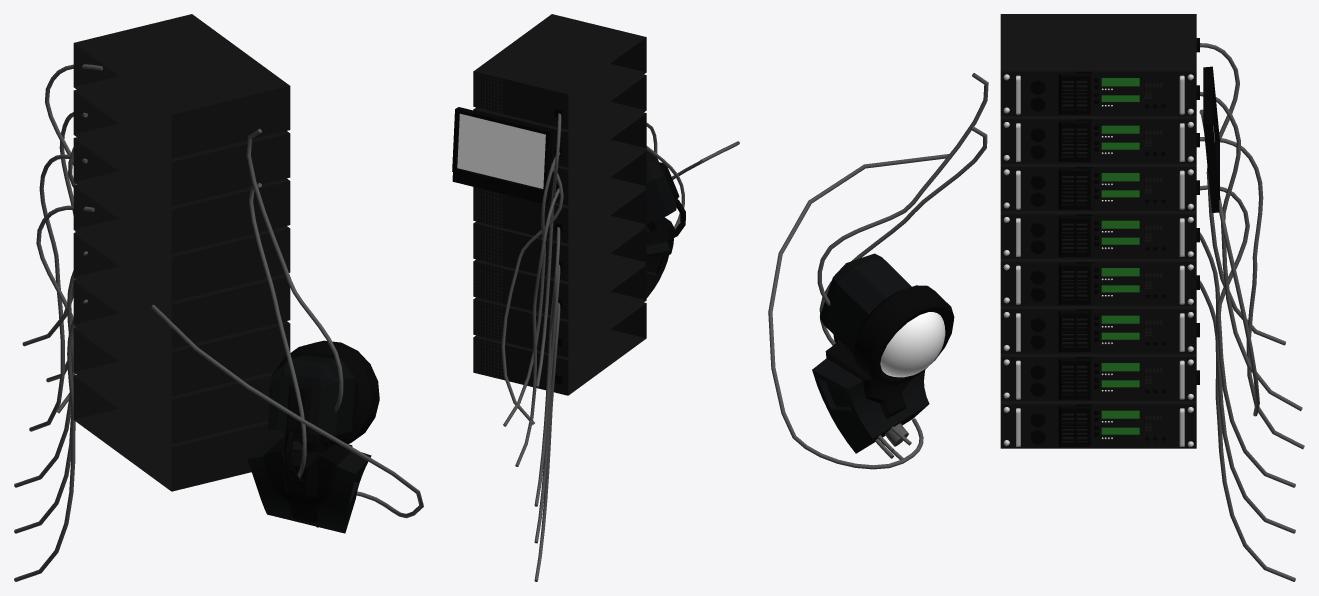
File: Menu.FBX
3 views of the same model, side by side, from view 1: azimuth 30°, elevation 25°; view 2: azimuth 150°, elevation 25°; view 3: azimuth 270°, elevation 25° (orthographic). The views are drawn at different scales.
Parts seen in each view (by area): view 1: Box024, Box028, Box032, Box036, Box040, Box044, Box048, Box052, Box003, Object002, Box001, Cylinder005 (+10 smaller); view 2: Box024, Box040, Box044, Box036, Box048, Box052, screen, Box028, Box032, Box023, Box003, Line004 (+8 smaller); view 3: Box024, Box028, Box036, Box044, Box052, Box040, Box032, Box048, Box001, Box003, Cylinder005, Sphere001 (+20 smaller).
Boxes of the visible parts, x1=… form: Box024: x1=73, y1=14, x2=290, y2=158; Box028: x1=73, y1=89, x2=290, y2=206; Box032: x1=73, y1=137, x2=290, y2=253; Box036: x1=73, y1=184, x2=290, y2=301; Box040: x1=73, y1=232, x2=290, y2=348; Box044: x1=73, y1=280, x2=290, y2=396; Box048: x1=73, y1=327, x2=273, y2=443; Box052: x1=73, y1=375, x2=284, y2=491; Box003: x1=268, y1=355, x2=355, y2=435; Object002: x1=263, y1=437, x2=352, y2=522; Box001: x1=247, y1=440, x2=371, y2=533; Cylinder005: x1=269, y1=340, x2=379, y2=446; Box024: x1=473, y1=14, x2=646, y2=129; Box040: x1=473, y1=188, x2=646, y2=281; Box044: x1=473, y1=226, x2=646, y2=319; Box036: x1=473, y1=150, x2=646, y2=243; Box048: x1=473, y1=264, x2=646, y2=357; Box052: x1=473, y1=302, x2=646, y2=395; screen: x1=457, y1=113, x2=545, y2=188; Box028: x1=473, y1=74, x2=646, y2=167; Box032: x1=549, y1=112, x2=646, y2=205; Box023: x1=452, y1=107, x2=552, y2=204; Box003: x1=644, y1=149, x2=676, y2=223; Line004: x1=515, y1=188, x2=559, y2=466; Box024: x1=1000, y1=14, x2=1196, y2=115; Box028: x1=1000, y1=116, x2=1196, y2=163; Box036: x1=1000, y1=211, x2=1196, y2=258; Box044: x1=1000, y1=306, x2=1196, y2=353; Box052: x1=1000, y1=401, x2=1196, y2=448; Box040: x1=1000, y1=258, x2=1196, y2=305; Box032: x1=1000, y1=163, x2=1196, y2=210; Box048: x1=1000, y1=353, x2=1196, y2=400; Box001: x1=812, y1=358, x2=929, y2=453; Box003: x1=820, y1=253, x2=911, y2=353; Cylinder005: x1=853, y1=285, x2=954, y2=385; Sphere001: x1=880, y1=312, x2=945, y2=377.
Size of the model in its own units: 38.84 by 108 by 91.49.
